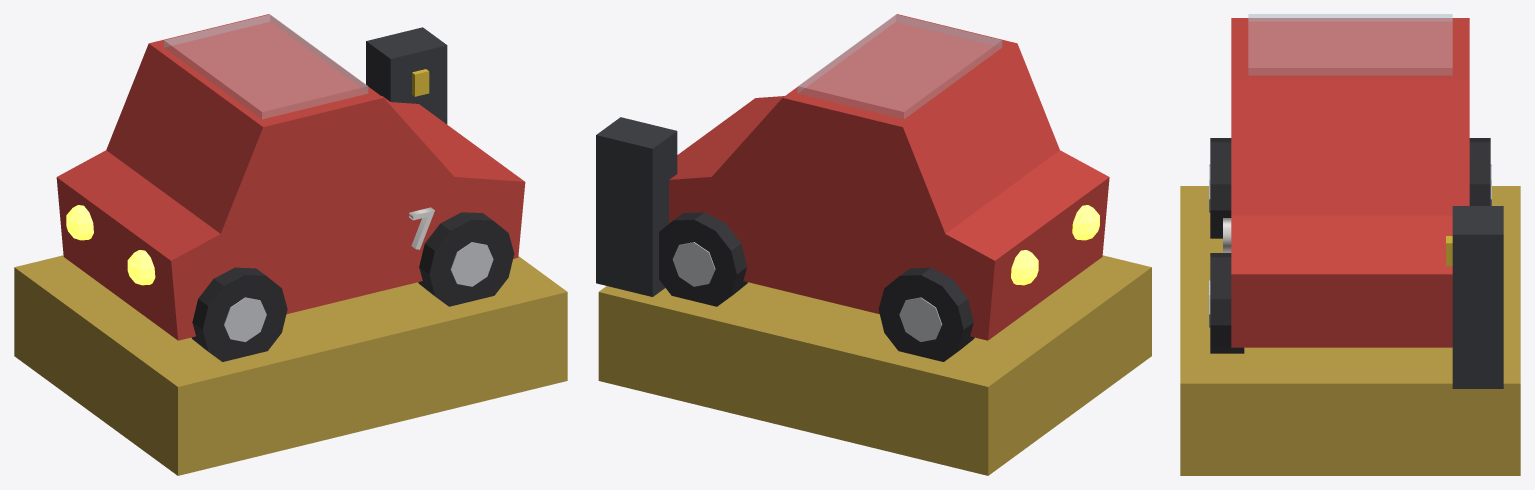
File: kiddie_car.glb
3 views of the same model, side by side, from view 1: azimuth 30°, elevation 25°; view 2: azimuth 150°, elevation 25°; view 3: azimuth 270°, elevation 25° (orthographic). The views are drawn at different scales.
Visible parts, largest first — view 1: kiddie_car; view 2: kiddie_car; view 3: kiddie_car.
Boxes of the visible parts, x1=… form: kiddie_car: x1=14, y1=14, x2=567, y2=475; kiddie_car: x1=596, y1=14, x2=1151, y2=475; kiddie_car: x1=1180, y1=14, x2=1520, y2=475.
Size of the model in its own units: 1.13 by 0.84 by 0.8.
